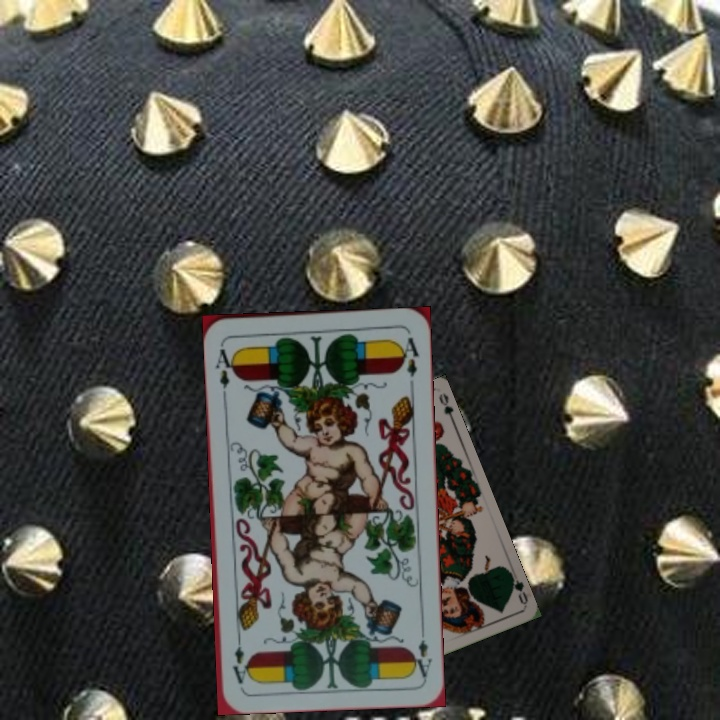EA: (212, 339, 238, 398), (408, 622, 434, 680)
GO: (505, 567, 531, 606)
